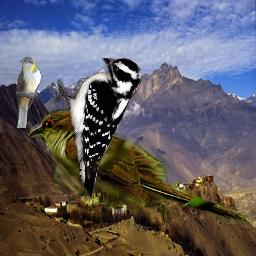Cuckoo: (27, 108, 253, 225), (15, 57, 41, 128)
Woodpecker: (55, 58, 142, 203)
